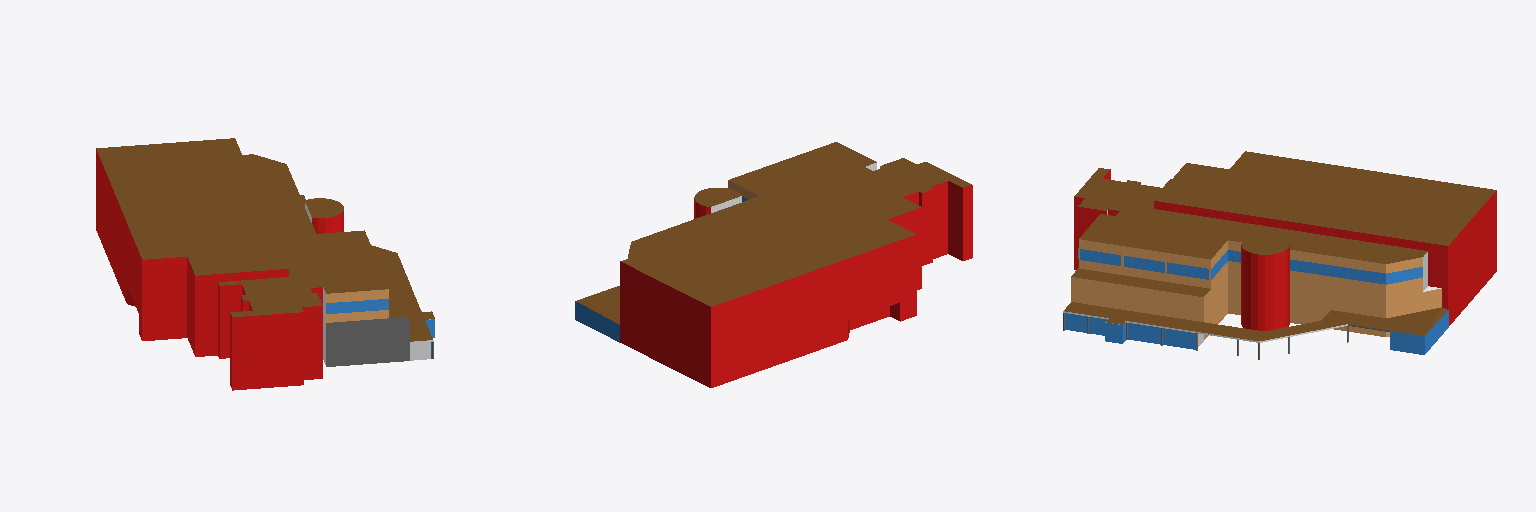
File: UniversityCenter.obj
3 views of the same model, side by side, from view 1: azimuth 30°, elevation 25°; view 2: azimuth 150°, elevation 25°; view 3: azimuth 270°, elevation 25° (orthographic).
Parts seen in each view (by area): view 1: SM_UnivCntr_Bldg01, SM_UnivCntr_WndwsWlk; view 2: SM_UnivCntr_Bldg01, SM_UnivCntr_WndwsWlk; view 3: SM_UnivCntr_Bldg01, SM_UnivCntr_WndwsWlk.
Boxes of the visible parts, box(x1,y1,x2,y2) form: SM_UnivCntr_Bldg01: box(96, 138, 434, 390); SM_UnivCntr_WndwsWlk: box(300, 195, 434, 366); SM_UnivCntr_Bldg01: box(620, 142, 972, 387); SM_UnivCntr_WndwsWlk: box(575, 197, 747, 342); SM_UnivCntr_Bldg01: box(1063, 151, 1496, 346); SM_UnivCntr_WndwsWlk: box(1063, 248, 1448, 359).
Bounding box in the file's own units: 5277 × 1568 × 7557.